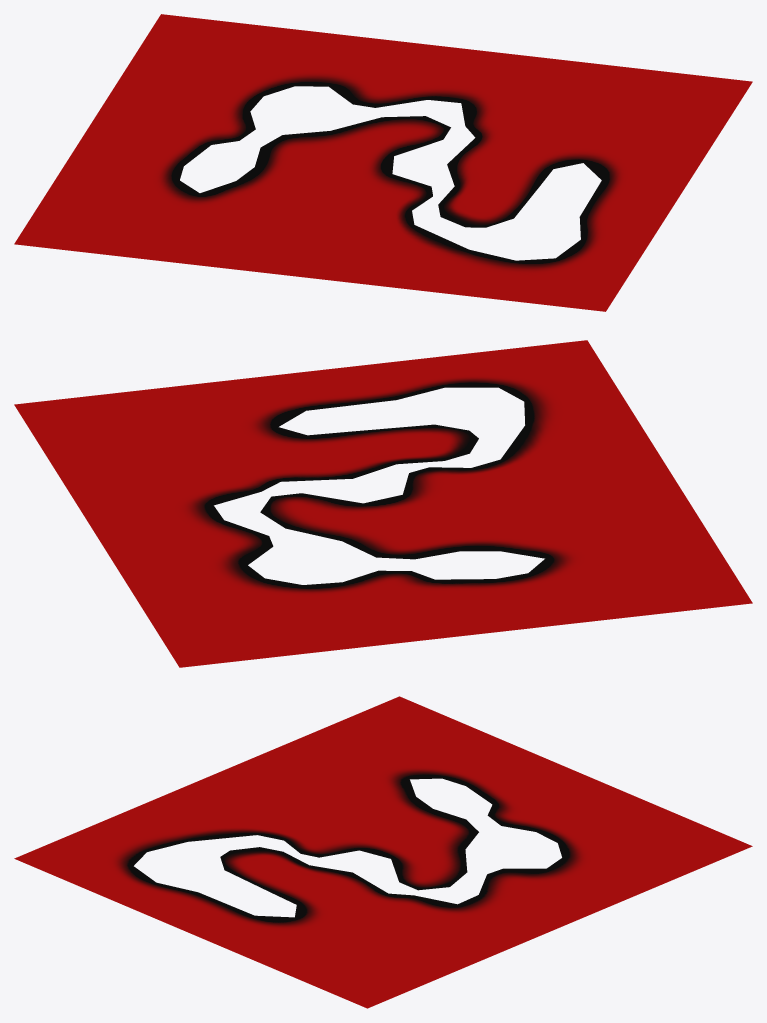
The model's file is Water Edge SDF.fbx.
3 views of the same model, one above another, from view 1: azimuth 30°, elevation 25°; view 2: azimuth 150°, elevation 25°; view 3: azimuth 270°, elevation 25° (orthographic). The views are drawn at different scales.
Parts seen in each view (by area): view 1: Water Edge SDF; view 2: Water Edge SDF; view 3: Water Edge SDF.
Part boxes in pixels (box(x1,y1,x2,y2)): Water Edge SDF: box(14, 14, 752, 311); Water Edge SDF: box(14, 340, 752, 667); Water Edge SDF: box(14, 696, 752, 1008).
Size of the model in its own units: 288 by 1.63e-07 by 288.
1 material, 1 textured.
